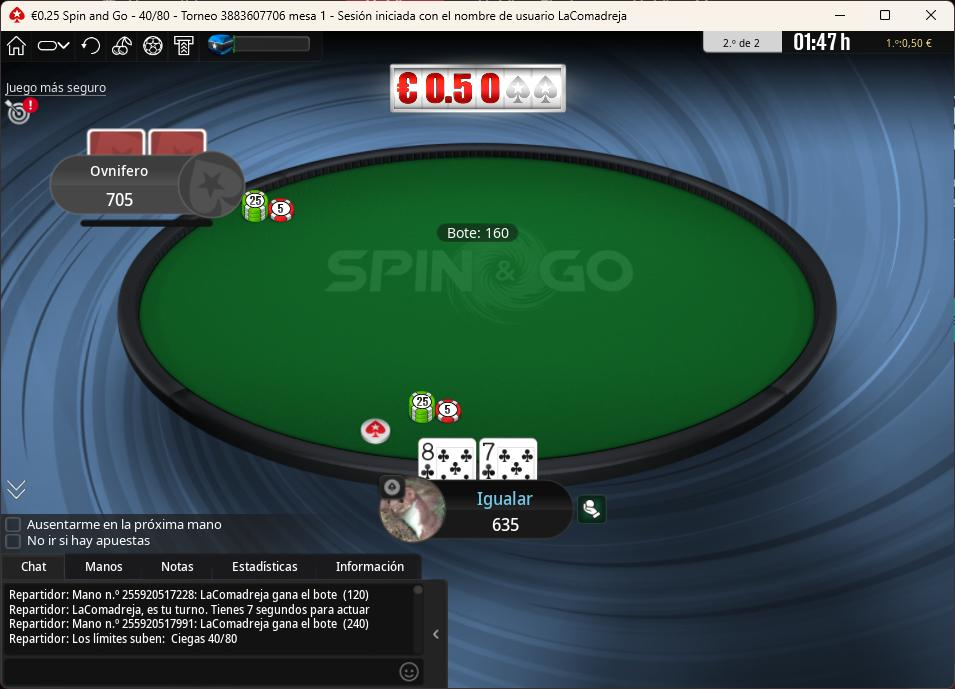Dealer: (361, 416, 394, 446)
HiddenCards: (87, 127, 208, 158)
Player: (50, 152, 243, 217)
PlayerBet: (242, 187, 303, 229)
PlayerChips: (103, 191, 140, 210)
Pot: (435, 222, 520, 243)
PrincipalBet: (406, 389, 465, 431)
PrincipalCards: (417, 436, 538, 481)
PrincipalCards1: (414, 436, 477, 482)
PrincipalCards2: (479, 436, 542, 482)
PrincipalPlayer: (376, 476, 576, 547)
PrincipalPlayerChips: (490, 514, 526, 533)
SmallBigBlind: (129, 3, 180, 24)
